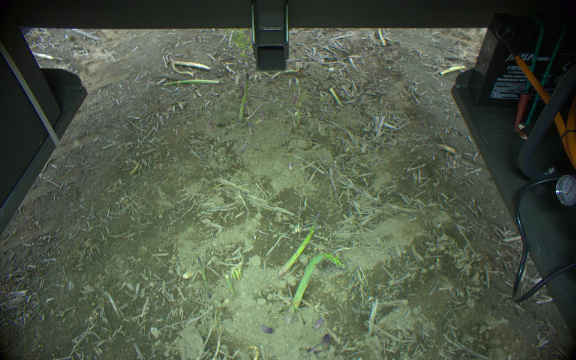aspa: (287, 252, 345, 316), (277, 212, 320, 280), (194, 256, 211, 298), (237, 71, 251, 121), (163, 76, 220, 87), (329, 86, 343, 108), (440, 65, 466, 76), (376, 27, 387, 46)
